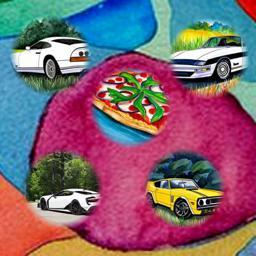something that can be eaten: (95, 68, 168, 138)
